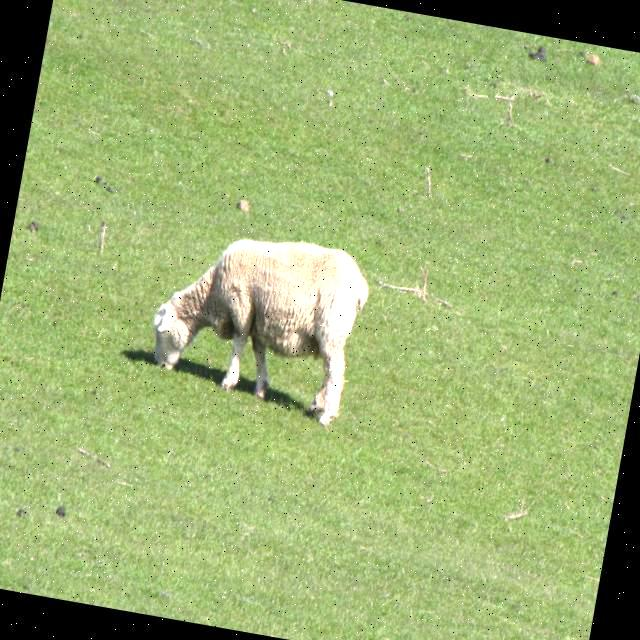sheep: (152, 237, 366, 422)
